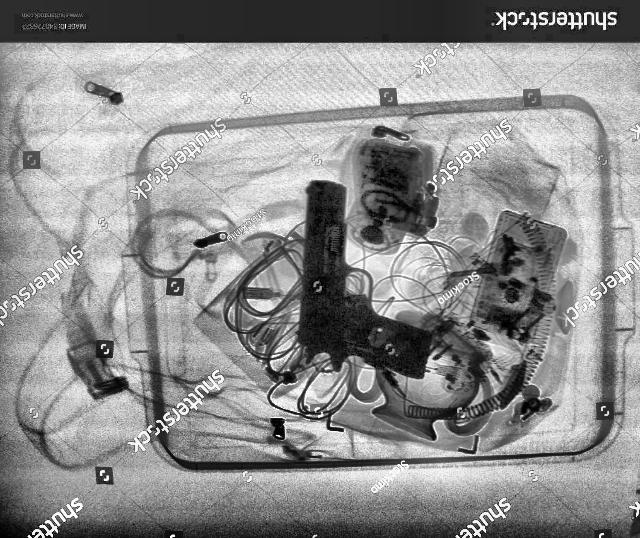Gun: (292, 179, 438, 381)
